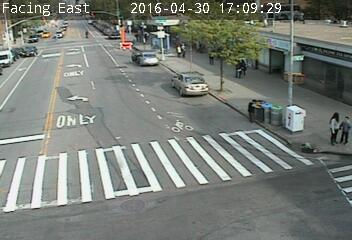neg: (240, 95, 262, 124), (182, 73, 201, 98), (267, 70, 285, 94), (65, 86, 82, 109), (121, 127, 138, 149), (301, 137, 317, 158), (324, 170, 340, 191), (317, 68, 332, 88), (44, 22, 59, 42), (207, 49, 221, 67), (9, 9, 22, 27), (141, 31, 152, 46), (107, 15, 116, 27), (146, 62, 155, 73)
pos: (324, 109, 348, 142), (335, 114, 351, 144), (233, 57, 249, 78), (177, 41, 189, 57), (82, 27, 92, 41)
